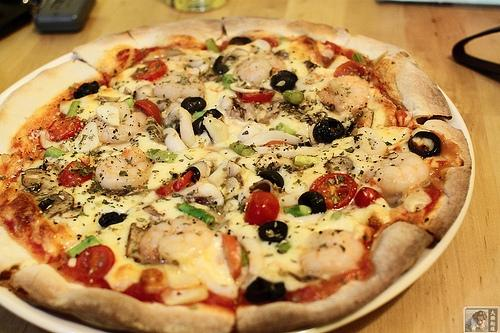bell pepper: (177, 202, 215, 226), (66, 235, 100, 258), (228, 140, 258, 157), (147, 148, 178, 162), (284, 205, 312, 217), (216, 74, 235, 91), (64, 100, 81, 119), (283, 90, 304, 105), (294, 155, 319, 167), (274, 122, 297, 135), (44, 146, 66, 158), (205, 38, 221, 53), (276, 240, 291, 254), (352, 52, 367, 64), (240, 245, 248, 266), (276, 36, 292, 45), (192, 110, 207, 119), (123, 99, 135, 108)
tomato: (310, 172, 358, 209), (76, 244, 115, 284), (243, 190, 280, 227), (48, 112, 85, 142), (155, 170, 195, 196), (58, 160, 93, 186), (132, 98, 164, 126), (131, 60, 167, 82), (354, 186, 383, 209), (334, 60, 365, 78), (236, 91, 272, 103)
